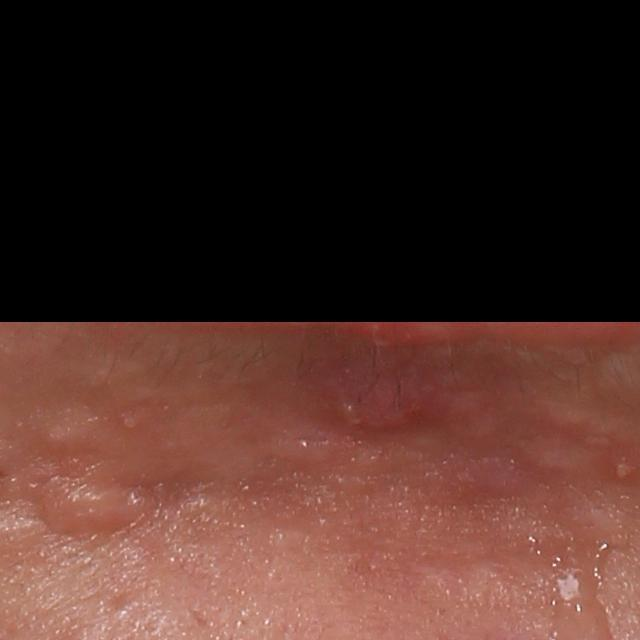hypertrophic_scar: (32, 475, 147, 537), (246, 418, 339, 472), (36, 404, 106, 458), (568, 498, 635, 552), (523, 440, 601, 482), (539, 399, 600, 435)
